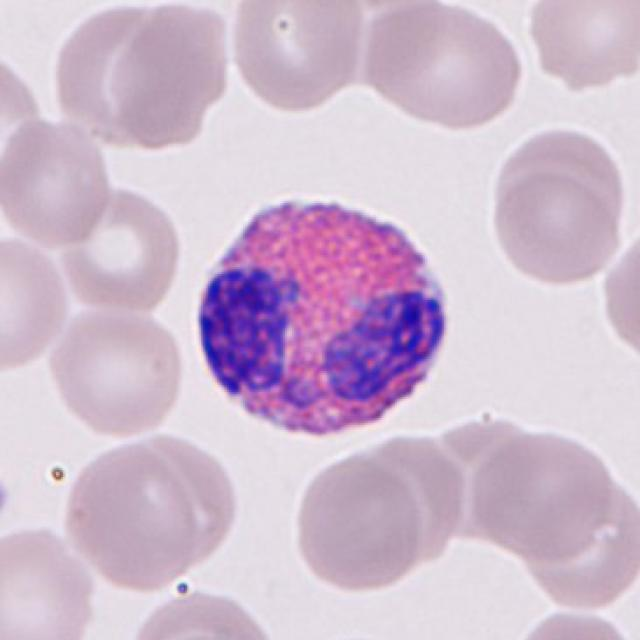Eosinophil: (185, 180, 462, 453)
RBC: (58, 439, 204, 595), (359, 0, 528, 132), (463, 425, 621, 562), (42, 300, 189, 441), (47, 0, 184, 151), (288, 453, 426, 595), (338, 427, 472, 572), (119, 428, 243, 581), (105, 0, 234, 144), (486, 120, 630, 244), (516, 470, 638, 616), (56, 182, 185, 316), (488, 168, 626, 288), (225, 0, 369, 114), (0, 112, 115, 249), (0, 520, 100, 640), (521, 0, 638, 94), (0, 229, 73, 373), (126, 583, 281, 640), (0, 43, 52, 192), (596, 224, 640, 368), (507, 603, 636, 640), (306, 629, 411, 640)
